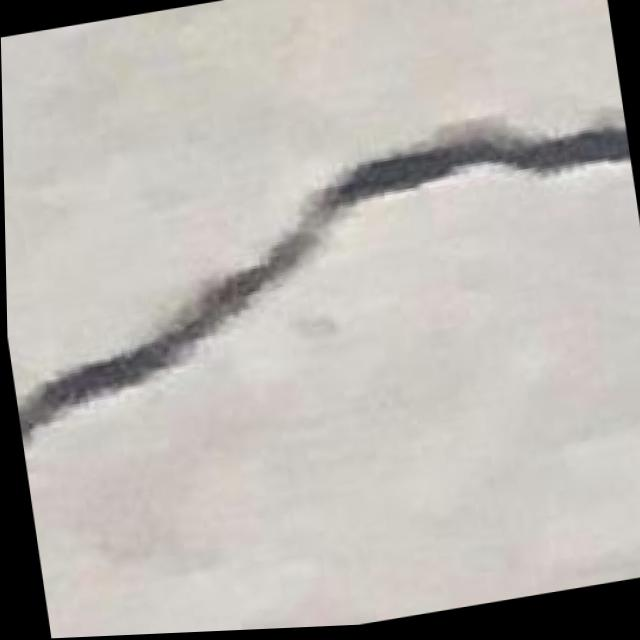Crack: (2, 72, 640, 448)
